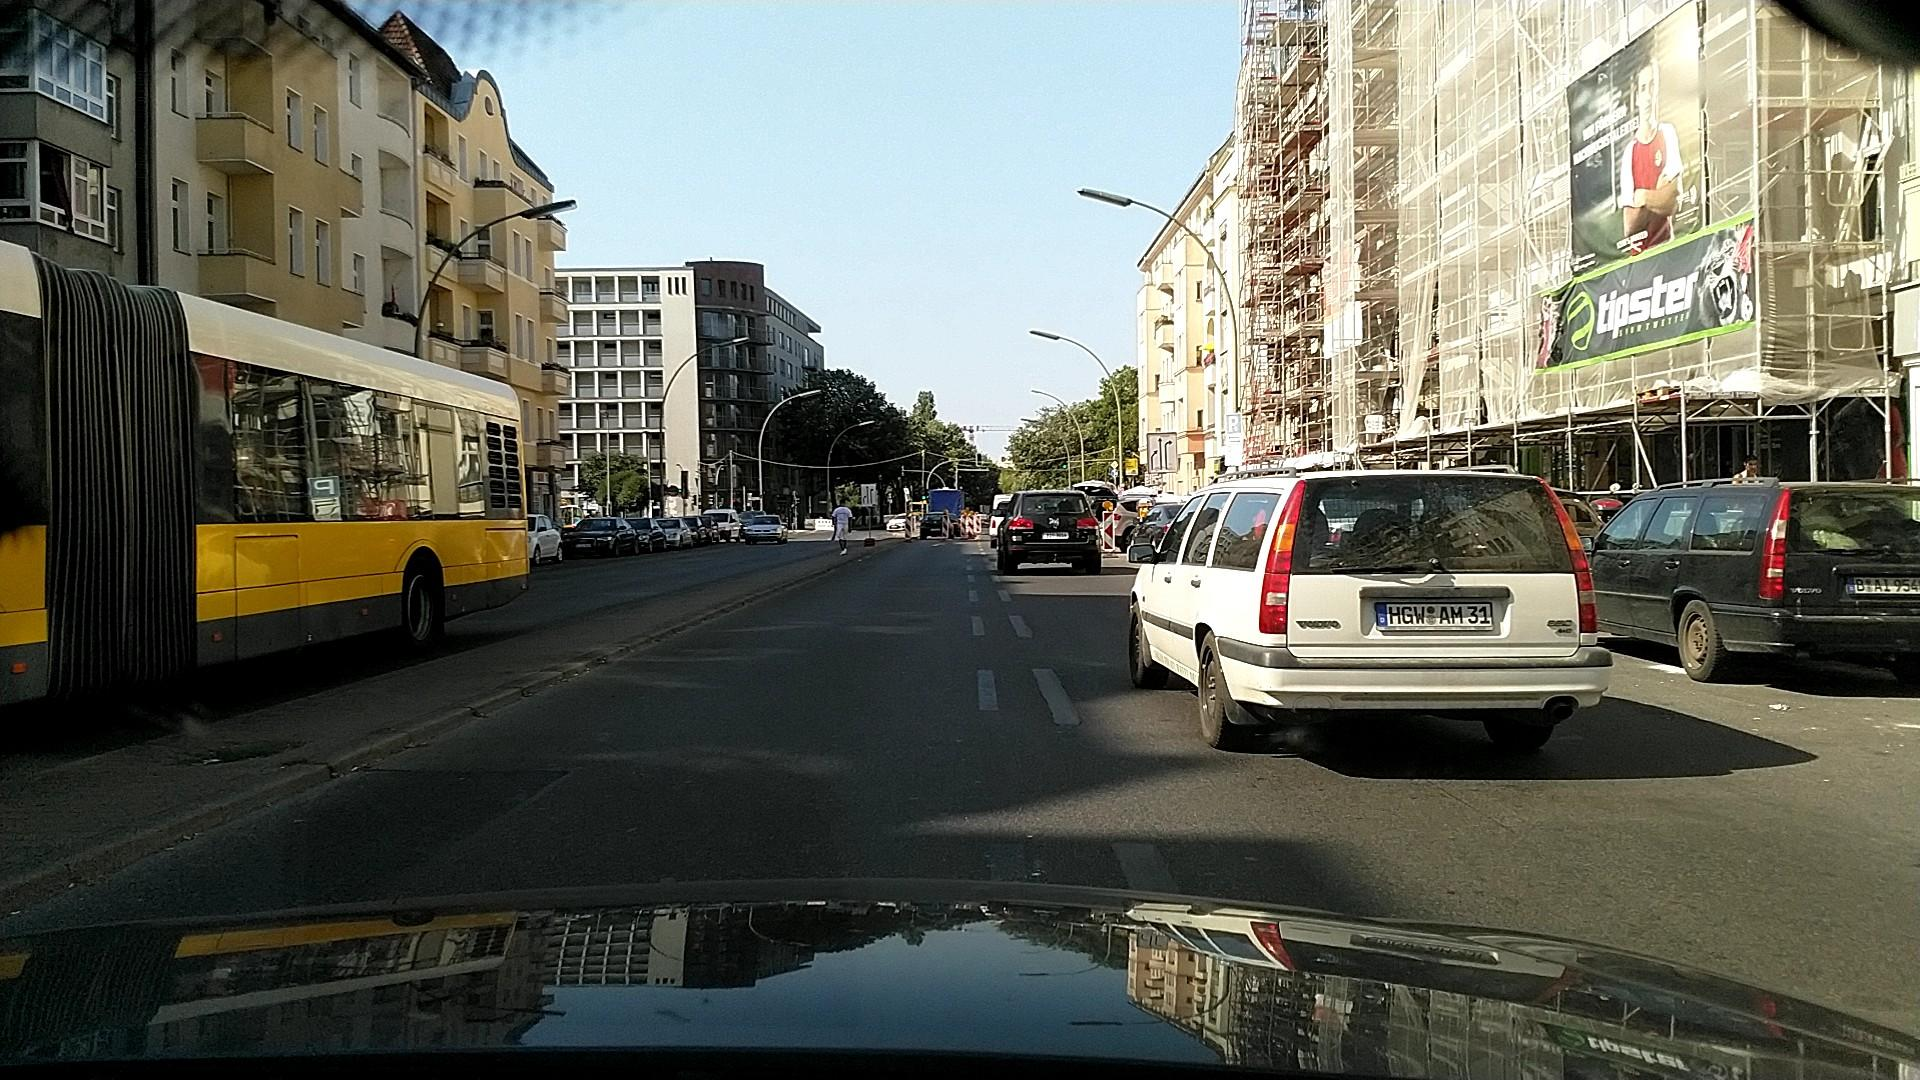Human face: (1742, 455, 1759, 477)
Vehicle registration plate: (1375, 602, 1492, 628), (1846, 577, 1920, 595), (1039, 531, 1070, 540)
